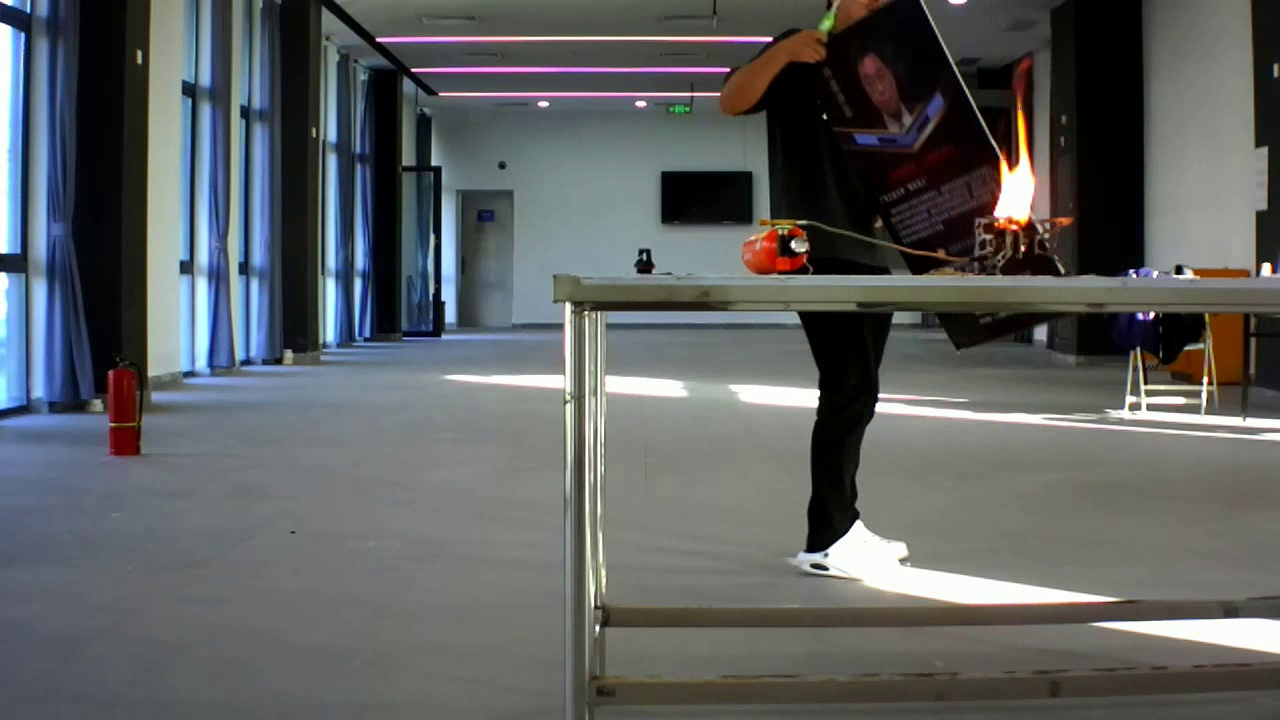Fire: (983, 57, 1045, 236)
